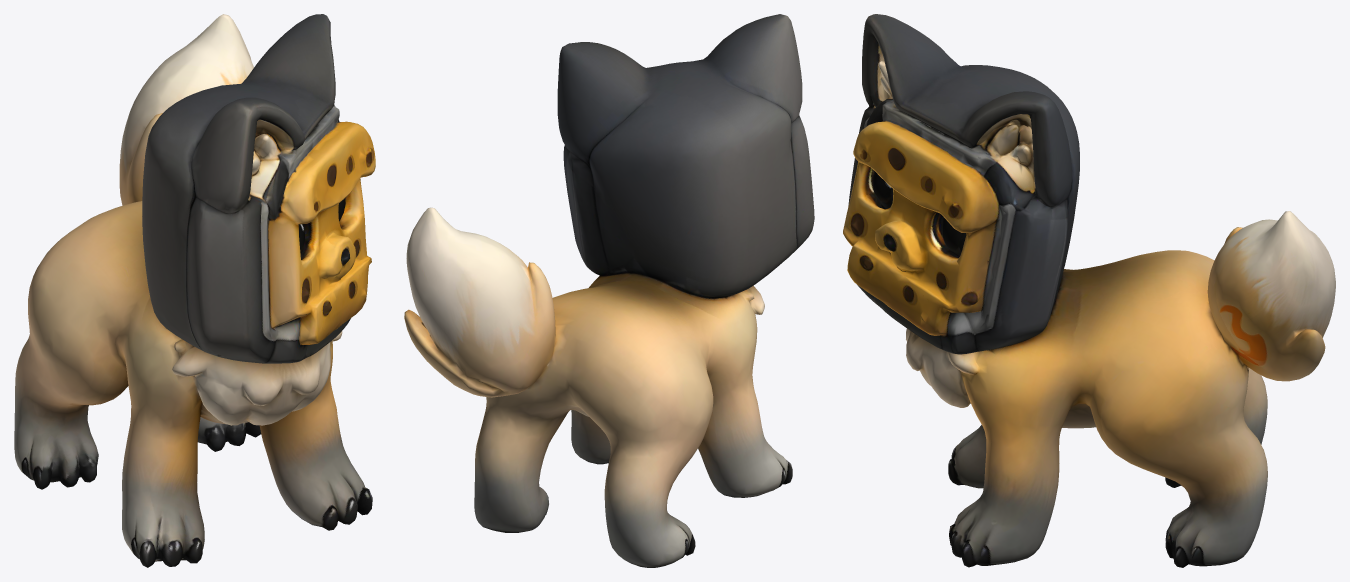
Rendered from 037-chibi-pet-tripo-v25-standard-15k.glb.
3 renders of one model, left to right at view 1: azimuth 30°, elevation 25°; view 2: azimuth 150°, elevation 25°; view 3: azimuth 270°, elevation 25°, orthographic. The views are drawn at different scales.
Visible parts, largest first — view 1: tripo_node_c229a005-a444-4ce0-b4a6-edc1ba57c91e; view 2: tripo_node_c229a005-a444-4ce0-b4a6-edc1ba57c91e; view 3: tripo_node_c229a005-a444-4ce0-b4a6-edc1ba57c91e.
Part boxes in pixels (bbox=[...]): tripo_node_c229a005-a444-4ce0-b4a6-edc1ba57c91e: bbox=[14, 14, 375, 567]; tripo_node_c229a005-a444-4ce0-b4a6-edc1ba57c91e: bbox=[404, 14, 814, 567]; tripo_node_c229a005-a444-4ce0-b4a6-edc1ba57c91e: bbox=[843, 14, 1335, 567].
Bounding box in the file's own units: 0.5792 × 0.9999 × 0.9356.
Materials: 1 (1 with a texture image).
